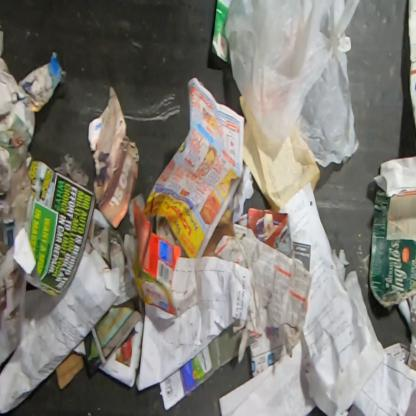cardboard: (367, 157, 415, 316), (54, 350, 85, 390), (408, 0, 415, 142)
soft_plastic: (225, 0, 361, 168)
